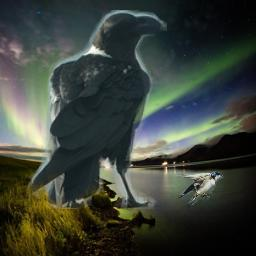Crow: (28, 10, 167, 209)
Swallow: (175, 171, 224, 208)
